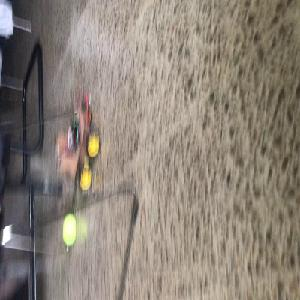Ball: (62, 214, 76, 244)
Robot: (56, 106, 99, 190)
